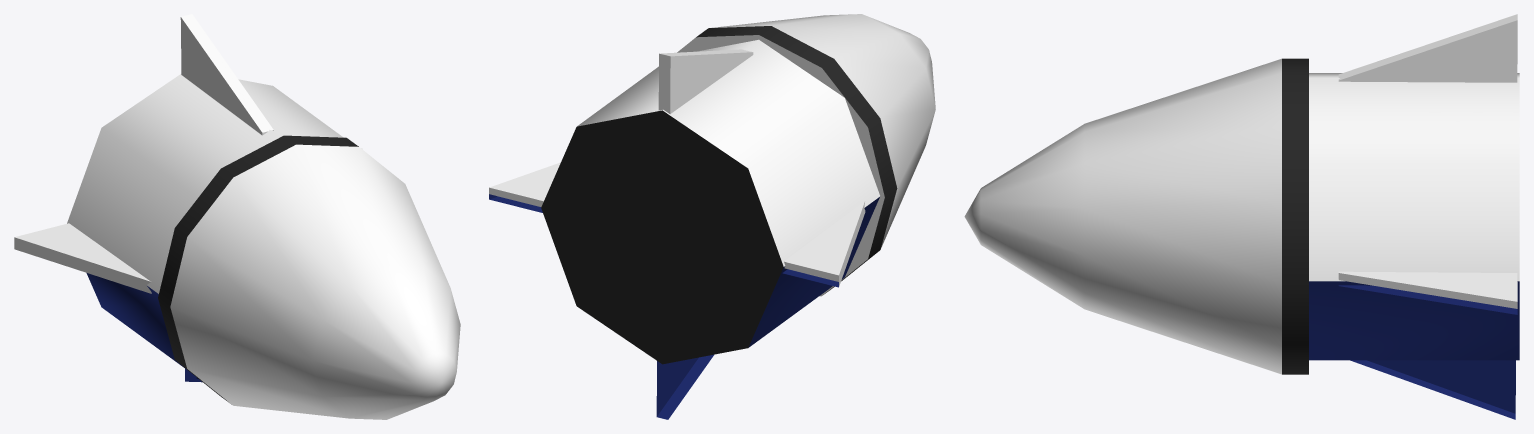
The model's file is spaceDragon.glb.
3 views of the same model, side by side, from view 1: azimuth 30°, elevation 25°; view 2: azimuth 150°, elevation 25°; view 3: azimuth 270°, elevation 25° (orthographic). The views are drawn at different scales.
Visible parts, largest first — view 1: Cone.001; view 2: Cone.001; view 3: Cone.001.
Boxes of the visible parts, x1=… form: Cone.001: x1=14, y1=14, x2=460, y2=419; Cone.001: x1=489, y1=14, x2=935, y2=419; Cone.001: x1=964, y1=14, x2=1519, y2=419.
Bounding box in the file's own units: 2.87 × 2.87 × 3.63.
